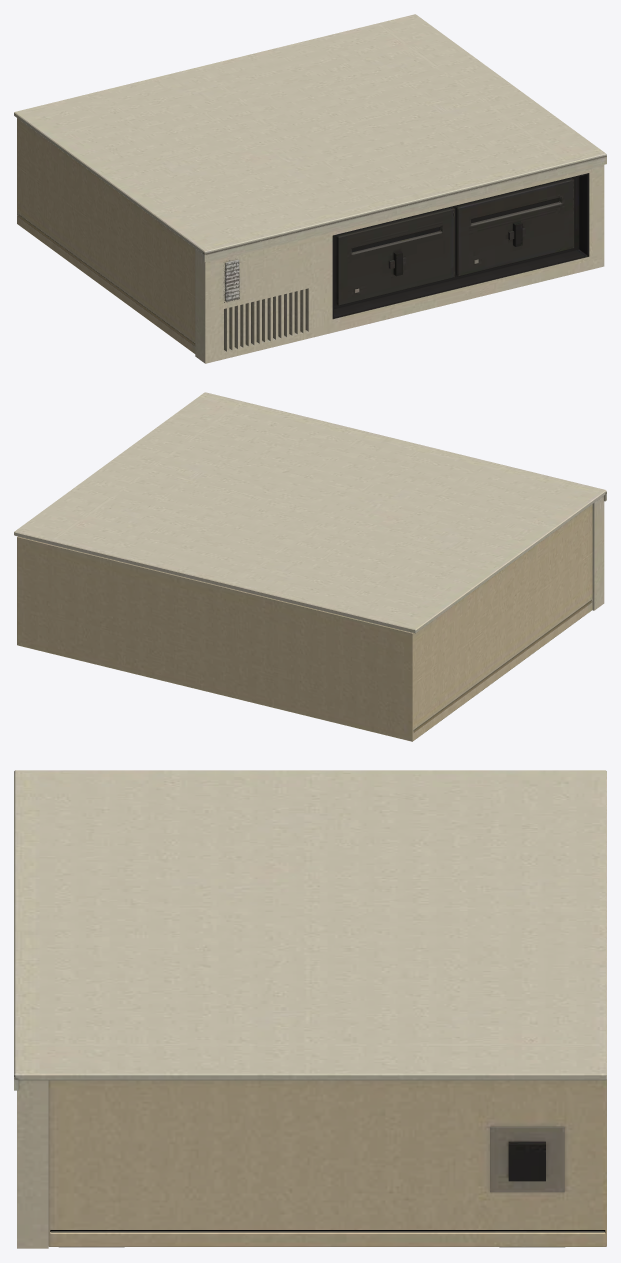
File: pizzabox-a.glb
3 renders of one model, top to bottom at view 1: azimuth 30°, elevation 25°; view 2: azimuth 150°, elevation 25°; view 3: azimuth 270°, elevation 25°, orthographic. The views are drawn at different scales.
Visible parts, largest first — view 1: case-baked; view 2: case-baked; view 3: case-baked.
Part boxes in pixels (box(x1,y1,x2,y2)): case-baked: box(14, 14, 606, 363); case-baked: box(14, 392, 606, 741); case-baked: box(14, 770, 606, 1248).
Size of the model in its own units: 0.5045 by 0.147 by 0.4131.
1 material, 1 textured.
